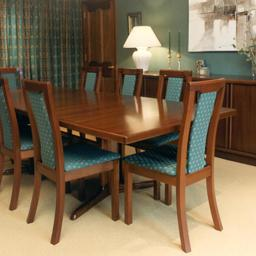Puerta: (83, 11, 121, 87)
Ventana: (1, 10, 78, 80)
